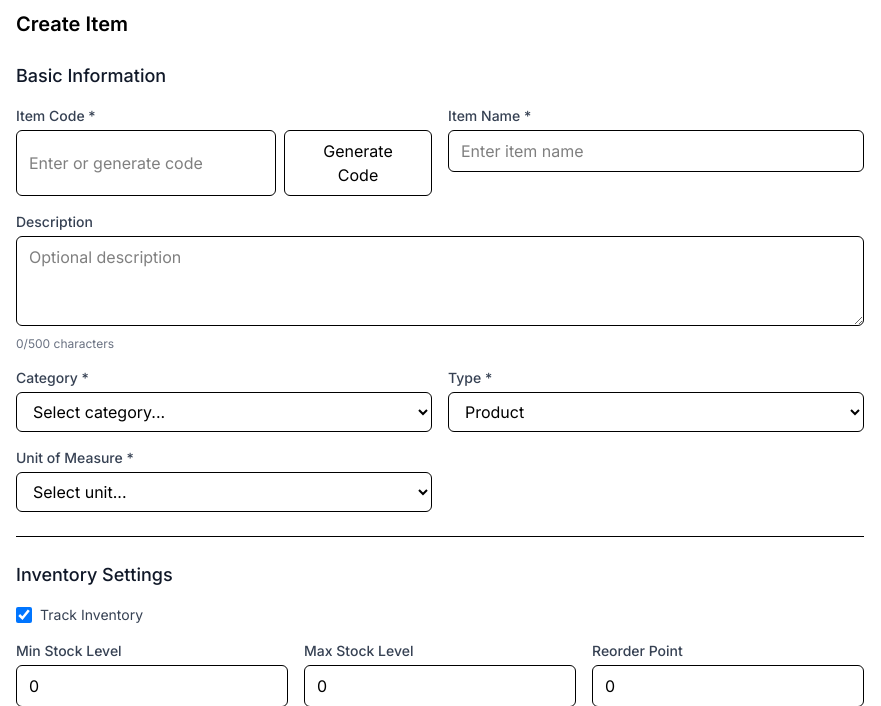
Scenario: ItemForm › Create Mode › should auto-generate item code based on category
The image size is (881, 706).
Select category
Select "Electronics" in the dropdown labelled "Category *" at (224, 412), box [16,392,432,432]
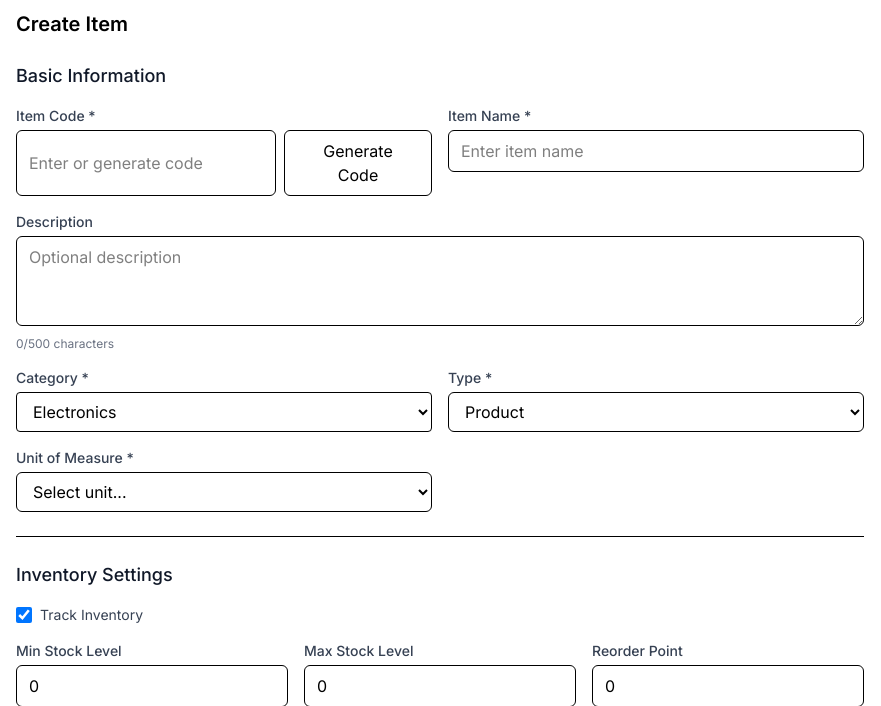
Click generate code button
Click the button "Generate Code".
click(358, 163)  # box [284,130,432,196]
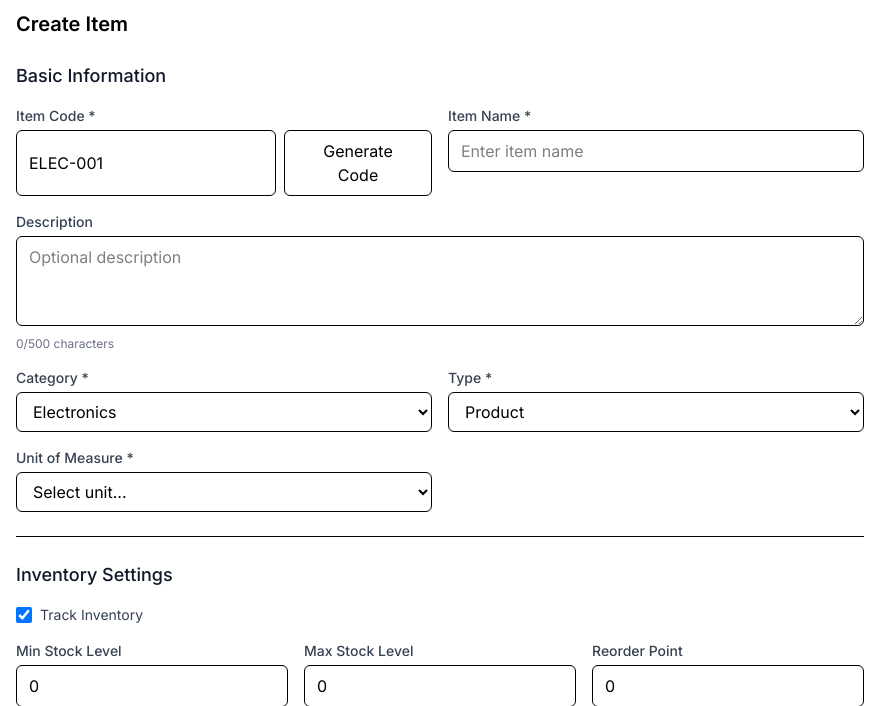
expect the field labelled "Item Code *" holds "ELEC-001": met, box [16,130,276,196]
